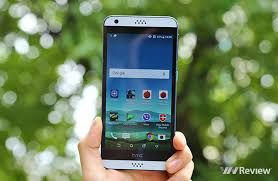htc: (99, 13, 177, 171)
